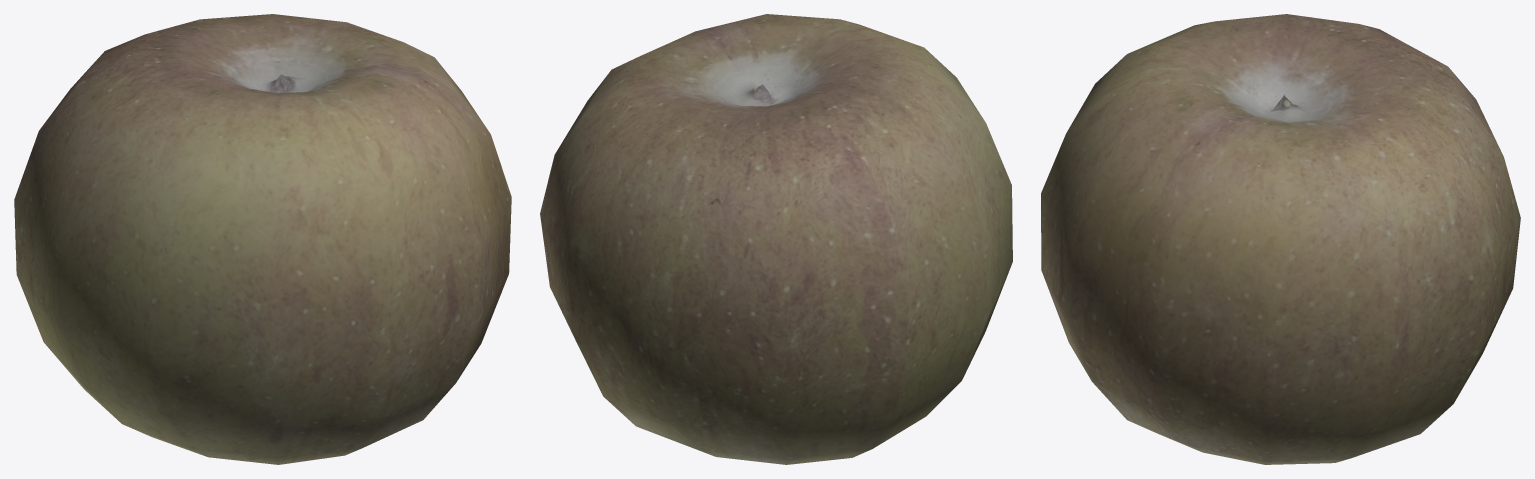
Rendered from A14_Apple_low.fbx.
3 views of the same model, side by side, from view 1: azimuth 30°, elevation 25°; view 2: azimuth 150°, elevation 25°; view 3: azimuth 270°, elevation 25° (orthographic). The views are drawn at different scales.
Visible parts, largest first — view 1: A14_Apple_low; view 2: A14_Apple_low; view 3: A14_Apple_low.
Part boxes in pixels (x1,y1,x2,y2): A14_Apple_low: (14, 14, 511, 464); A14_Apple_low: (540, 14, 1012, 464); A14_Apple_low: (1041, 14, 1520, 464).
Size of the model in its own units: 12.31 by 12.36 by 10.07.
Materials: 1 (1 with a texture image).
